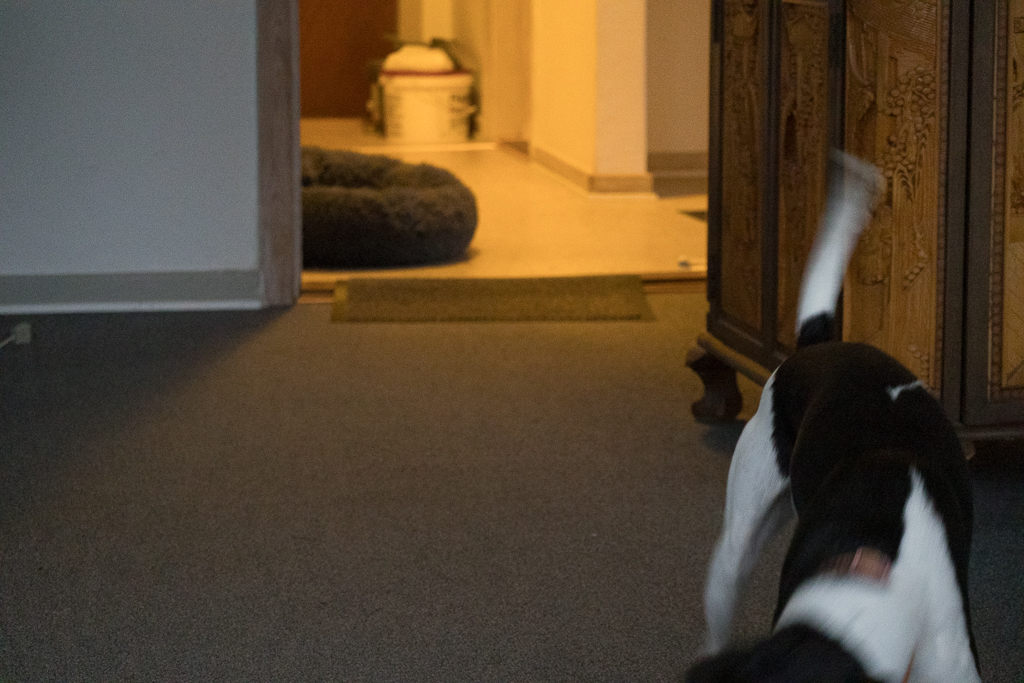Dog: (662, 148, 998, 683)
